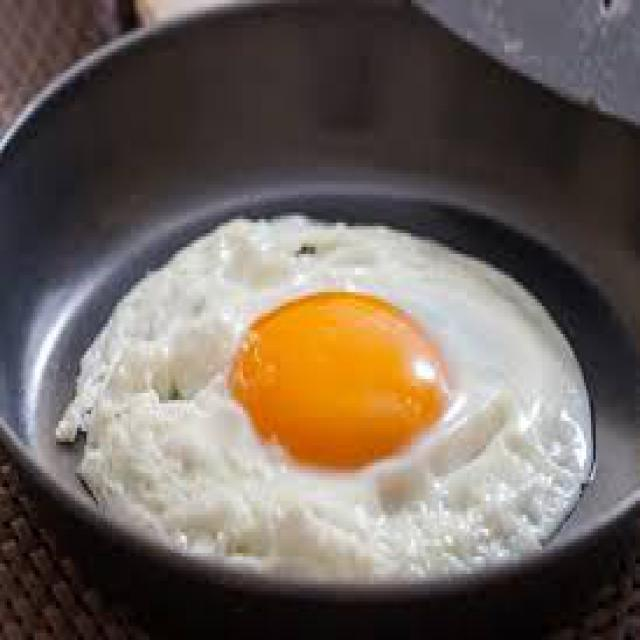Fried Egg: (73, 212, 596, 588)
